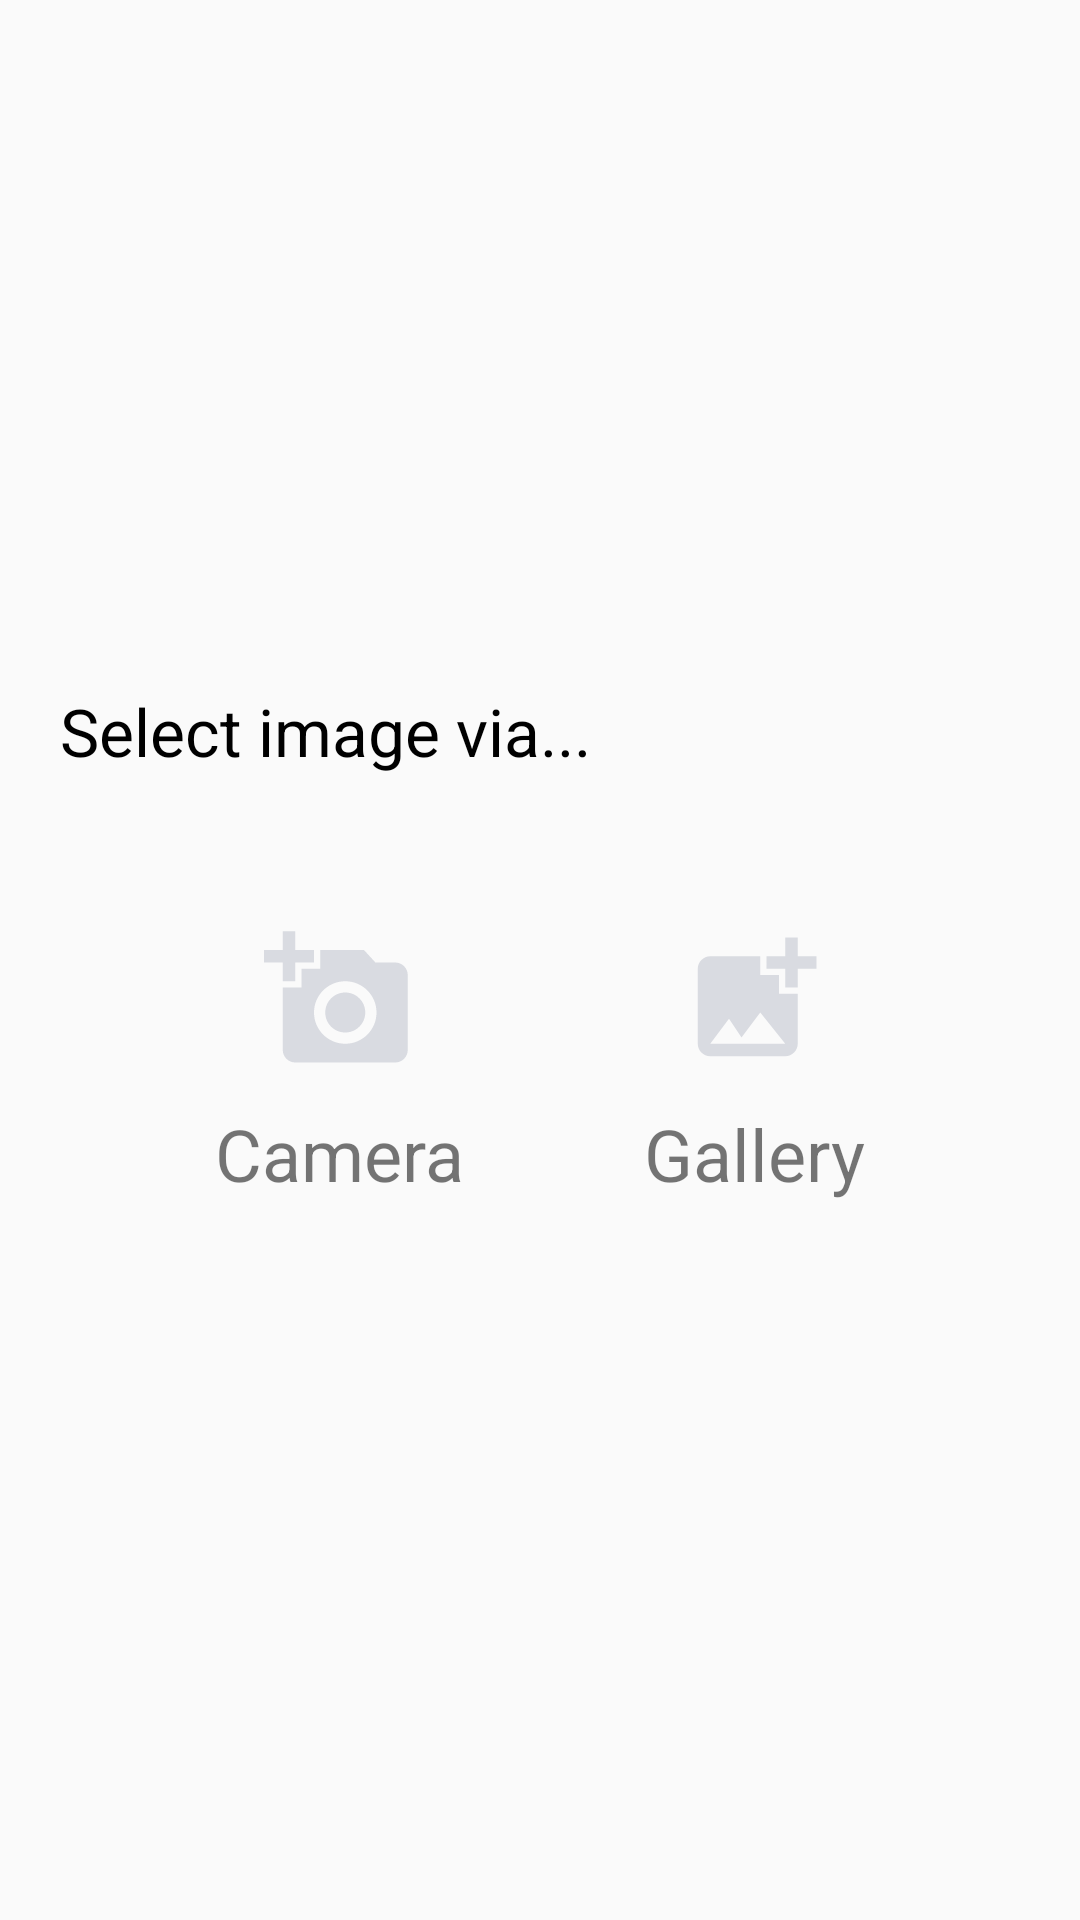

Named icons in this screenshot (1080px×1920px) and their centers, [x,y]:
add photo: [336,996]
add photo alternate: [757,997]
